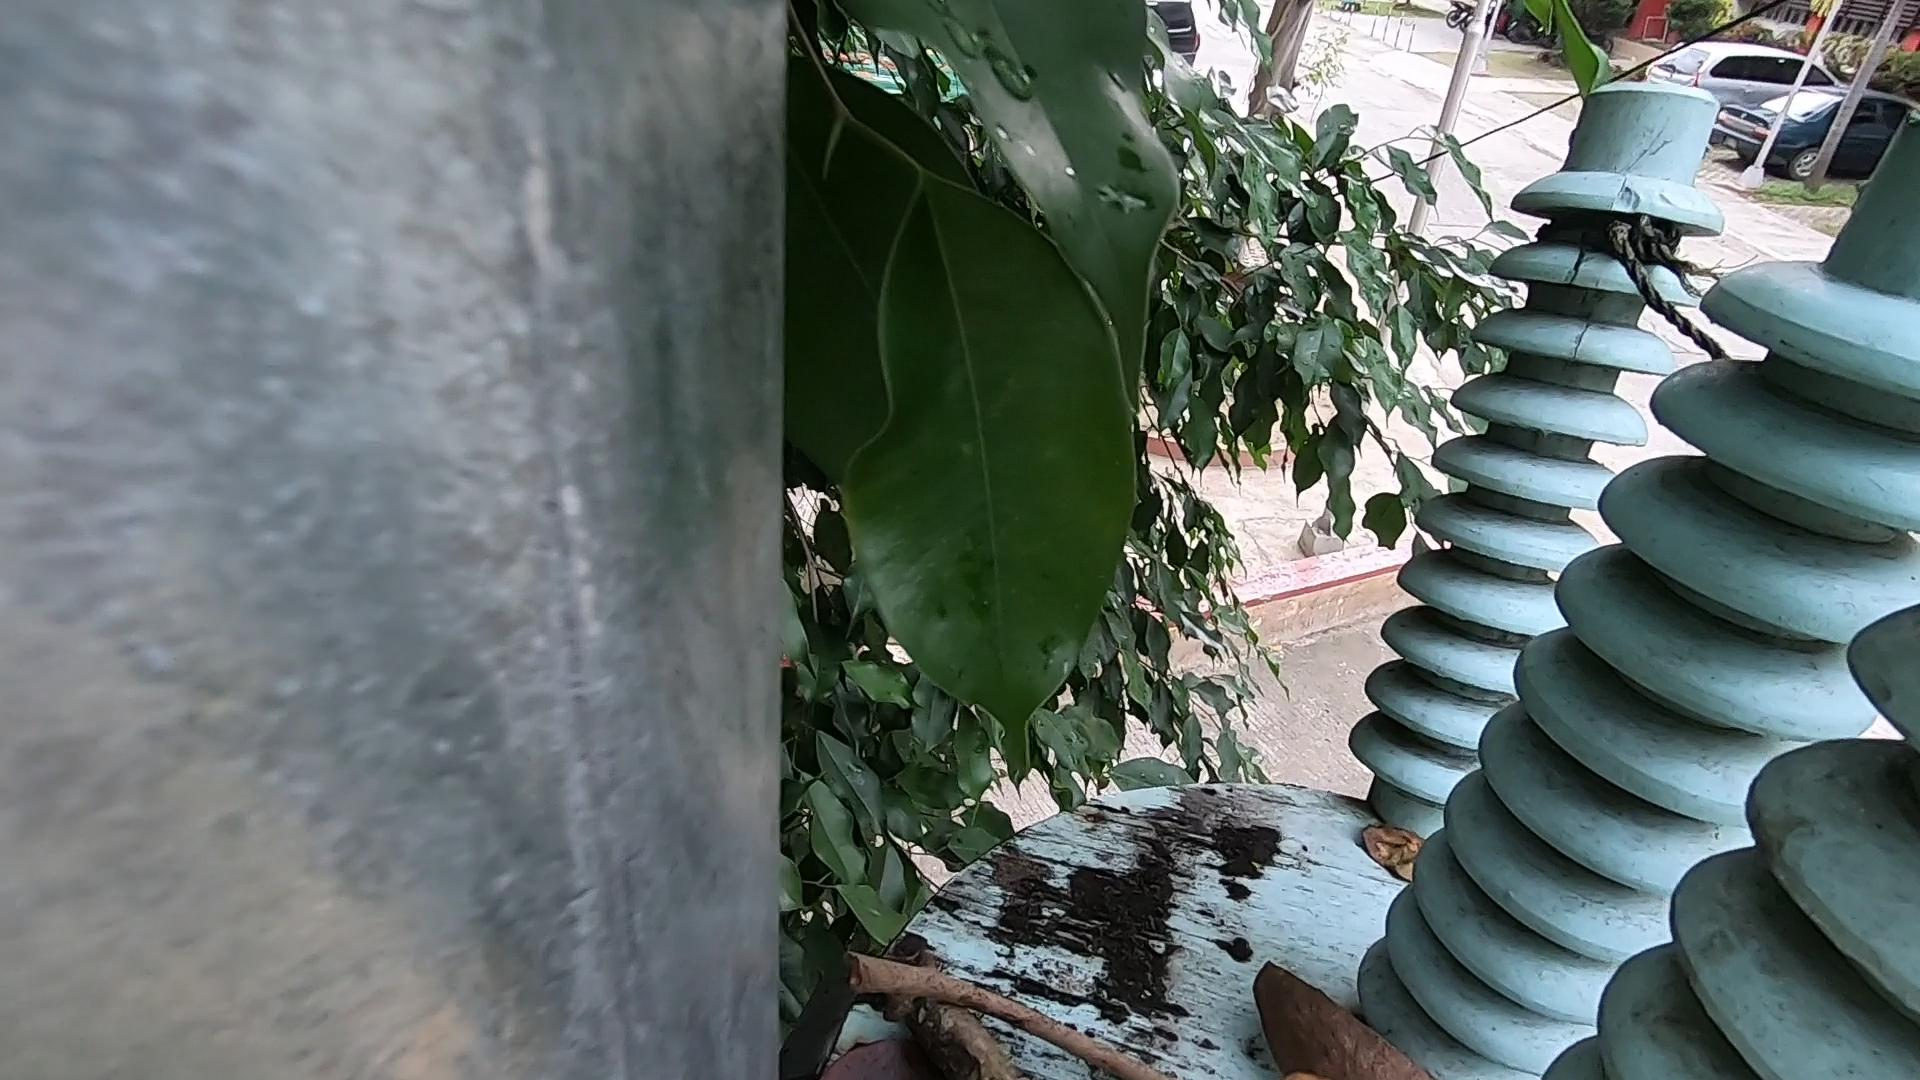branch with leaves: (876, 936, 1015, 1080)
leaf: (1370, 807, 1441, 920)
mahogany fruit: (1269, 915, 1449, 1080)
tree branch: (824, 936, 1201, 1080)
